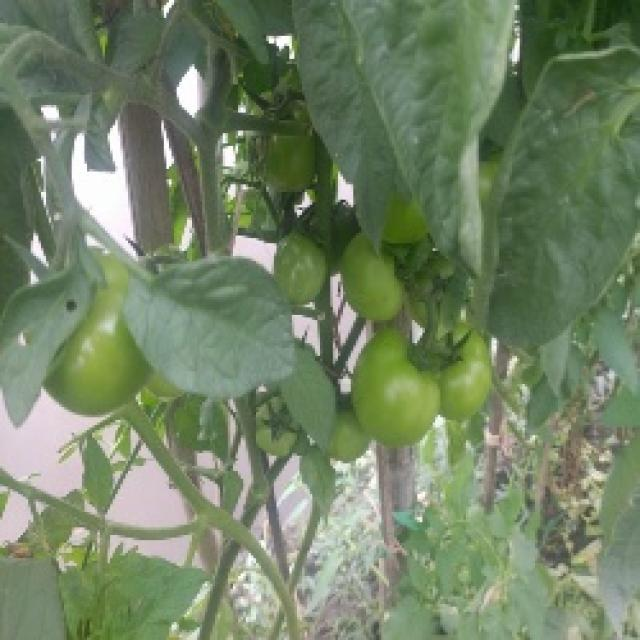tomato: (353, 326, 446, 447), (71, 280, 141, 415), (330, 230, 410, 327), (426, 319, 496, 425), (414, 251, 479, 328), (278, 234, 329, 320), (327, 404, 373, 470), (259, 398, 296, 463)
